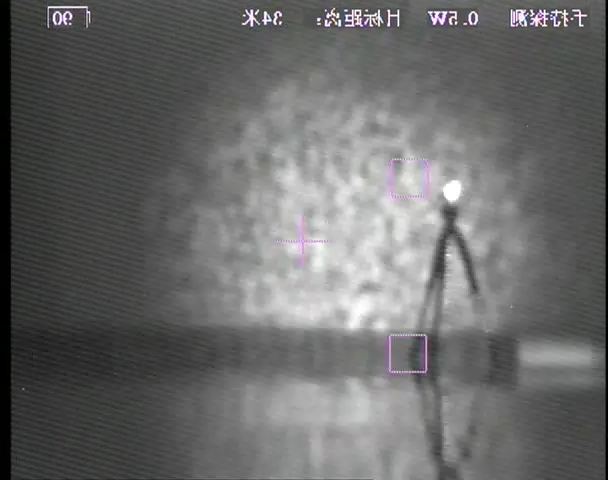my: (441, 177, 464, 204)
